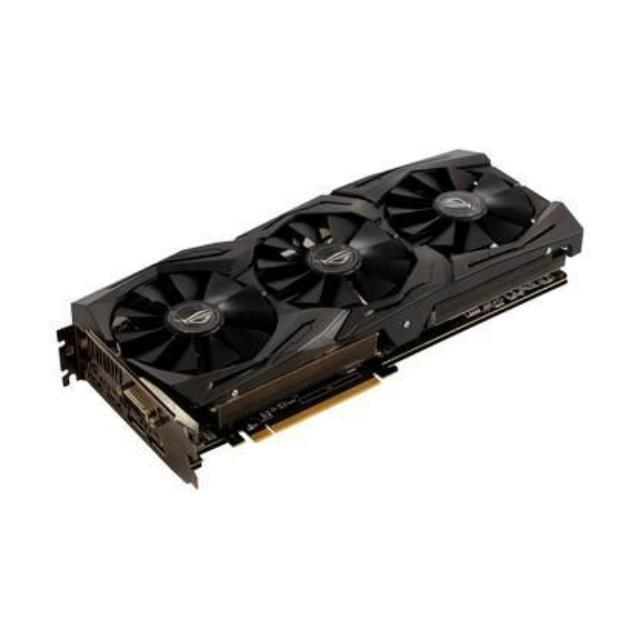GPU: (74, 136, 588, 439)
